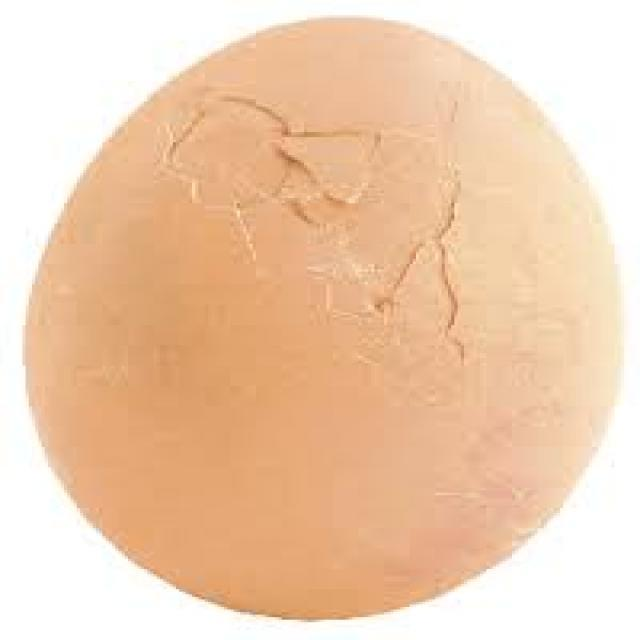biodegradable: (14, 11, 636, 624)
